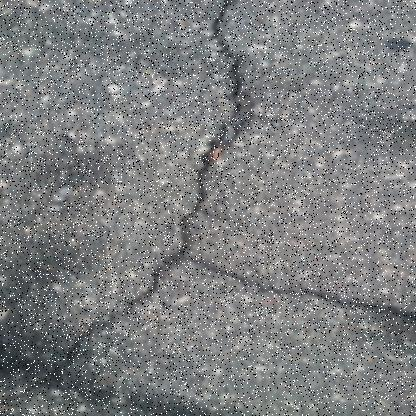Cracks: (0, 0, 259, 415), (167, 248, 416, 325)
